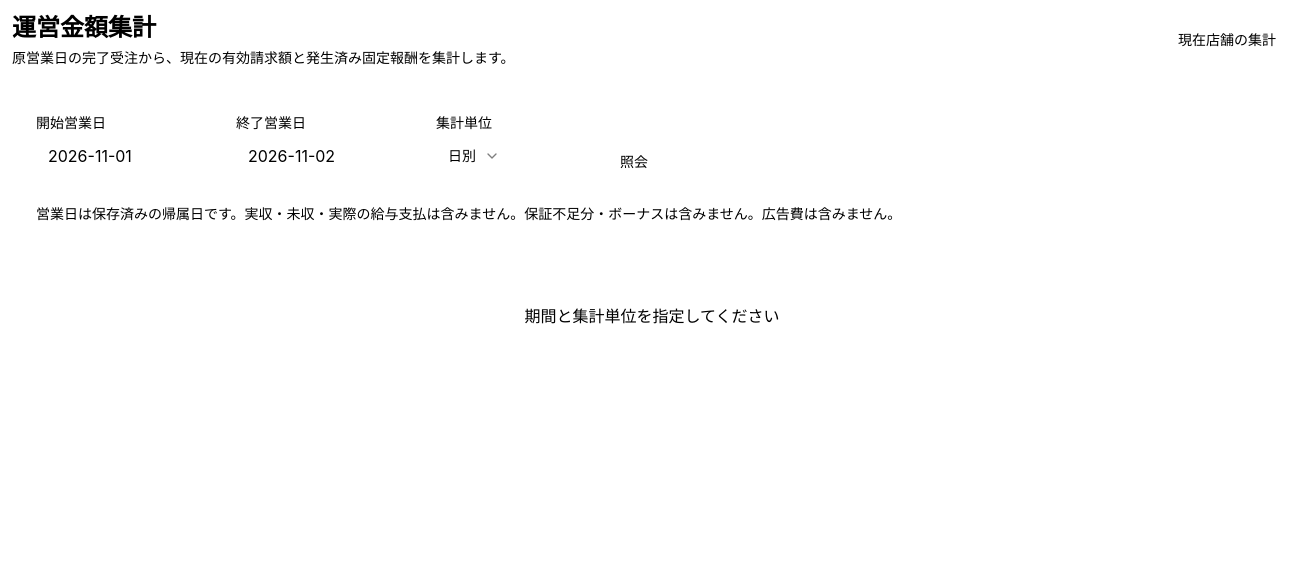
Scenario: admin permission ADVERTISING_COST_VIEW export false controls selected advertising
This screenshot has width=1292, height=565.
Click the button "照会" at (634, 162), box [604,144,664,180]
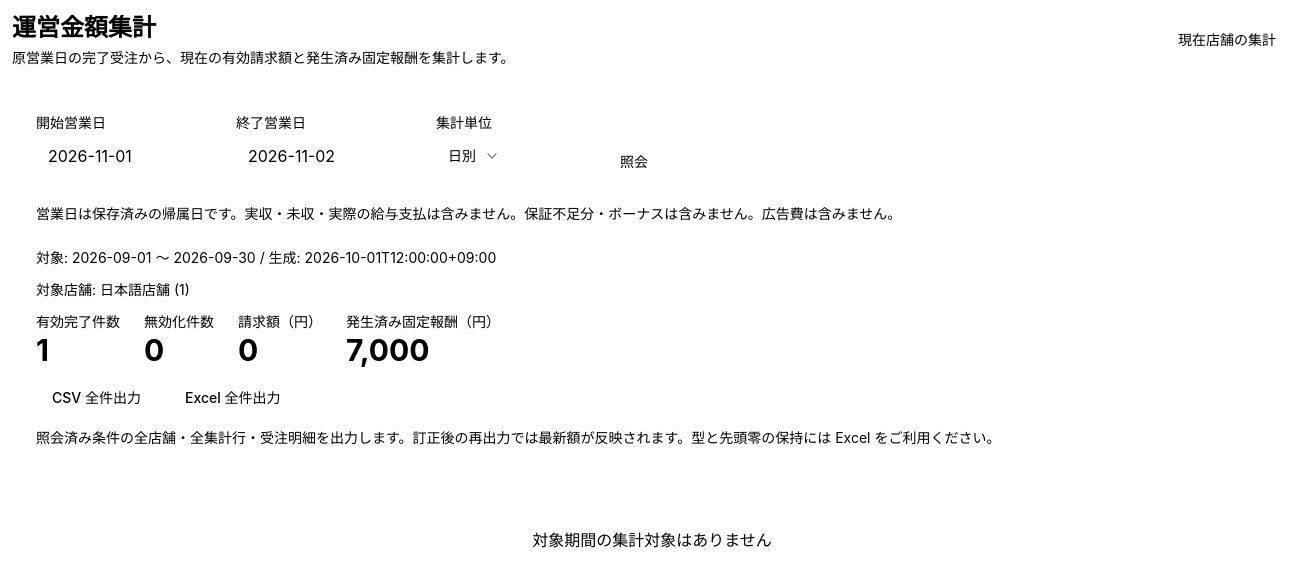
expect the text named "請求額（円）" is shown: met, box [238,332,258,368]
expect the button "CSV 全件出力" is shown: met, box [36,380,157,416]
